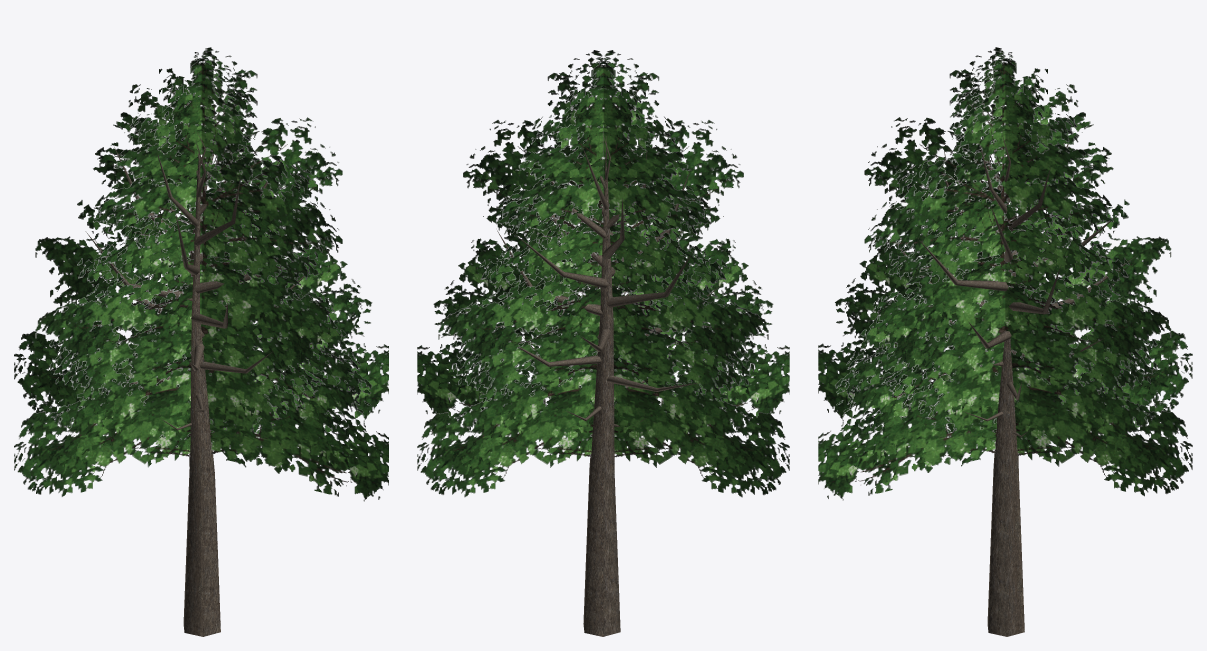
The model's file is tree6.fbx.
3 renders of one model, left to right at view 1: azimuth 30°, elevation 25°; view 2: azimuth 150°, elevation 25°; view 3: azimuth 270°, elevation 25°, orthographic.
Parts seen in each view (by area): view 1: Leaf3, Leaf5, Leaf2, Leaf6, Trunk; view 2: Leaf1, Leaf5, Leaf2, Leaf4, Trunk; view 3: Leaf3, Leaf1, Leaf4, Leaf6, Trunk.
Part boxes in pixels (x1,y1,x2,y2): Leaf3: [201, 50, 388, 501]; Leaf5: [14, 54, 201, 496]; Leaf2: [201, 47, 388, 441]; Leaf6: [14, 52, 200, 447]; Trunk: [85, 123, 314, 636]; Leaf1: [417, 57, 603, 497]; Leaf5: [603, 57, 789, 497]; Leaf2: [417, 50, 603, 446]; Leaf4: [603, 50, 789, 446]; Trunk: [497, 130, 719, 636]; Leaf3: [818, 50, 1005, 500]; Leaf1: [1005, 54, 1192, 496]; Leaf4: [818, 47, 1004, 440]; Leaf6: [1006, 52, 1192, 446]; Trunk: [890, 124, 1135, 636].
Size of the model in its own units: 0.0652 by 0.0964 by 0.0564.
2 materials, 2 textured.
